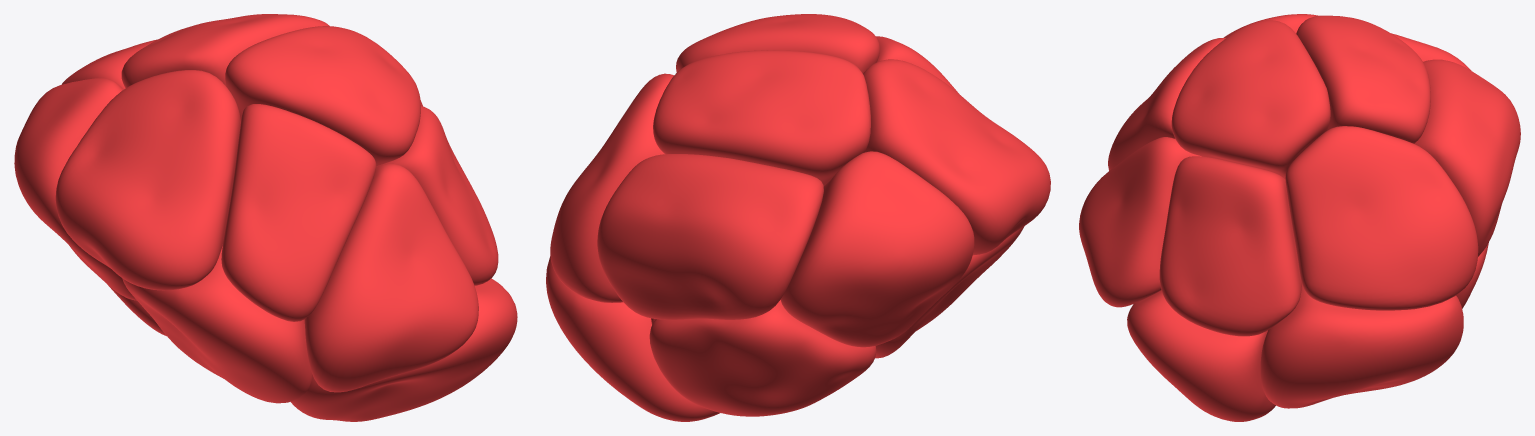
3 views of the same model, side by side, from view 1: azimuth 30°, elevation 25°; view 2: azimuth 150°, elevation 25°; view 3: azimuth 270°, elevation 25° (orthographic). The views are drawn at different scales.
Visible parts, largest first — view 1: a1.002, a1.003, a1.013, a1.012, a1.014, a1.004, a1.011, a1.006, a1.010, a1.008, a1.009; view 2: a1.008, a1.011, a1.010, a1.002, a1.009, a1.001, a1.005, a1.012, a1.014, a1.013; view 3: a1.001, a1.006, a1.012, a1.005, a1.003, a1.010, a1.008, a1.004, a1.013, a1.011, a1.002, a1.009.
Part boxes in pixels (x1,y1,x2,y2): a1.002: (55, 70, 240, 290); a1.003: (304, 163, 478, 392); a1.013: (221, 104, 376, 321); a1.012: (225, 26, 420, 166); a1.014: (122, 246, 312, 403); a1.004: (291, 278, 517, 421); a1.011: (14, 78, 136, 300); a1.006: (376, 106, 498, 285); a1.010: (121, 14, 329, 88); a1.008: (62, 39, 157, 89); a1.009: (107, 284, 166, 336); a1.008: (597, 154, 823, 319); a1.011: (780, 151, 974, 347); a1.010: (653, 50, 870, 185); a1.002: (863, 59, 1050, 255); a1.009: (649, 300, 876, 416); a1.001: (550, 73, 673, 302); a1.005: (546, 256, 719, 421); a1.012: (676, 14, 879, 73); a1.014: (875, 226, 1024, 358); a1.013: (876, 36, 958, 93); a1.001: (1285, 126, 1478, 310); a1.006: (1159, 156, 1301, 336); a1.012: (1171, 20, 1330, 179); a1.005: (1260, 284, 1463, 408); a1.003: (1079, 137, 1201, 307); a1.010: (1296, 15, 1430, 143); a1.008: (1414, 59, 1520, 256); a1.004: (1127, 290, 1275, 421); a1.013: (1108, 38, 1225, 170); a1.011: (1391, 33, 1471, 70); a1.002: (1223, 14, 1319, 37); a1.009: (1456, 242, 1488, 308).
Size of the model in its own units: 421 by 369 by 427.
